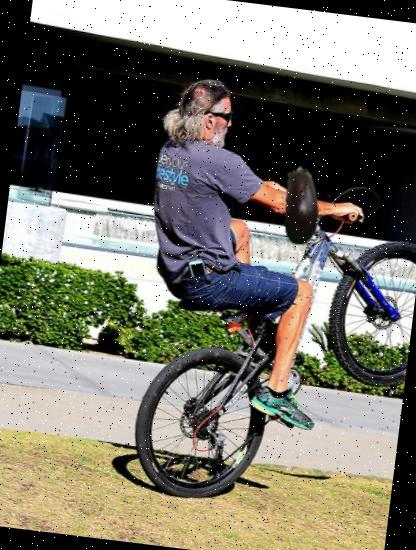Eggplant: (257, 161, 346, 252)
